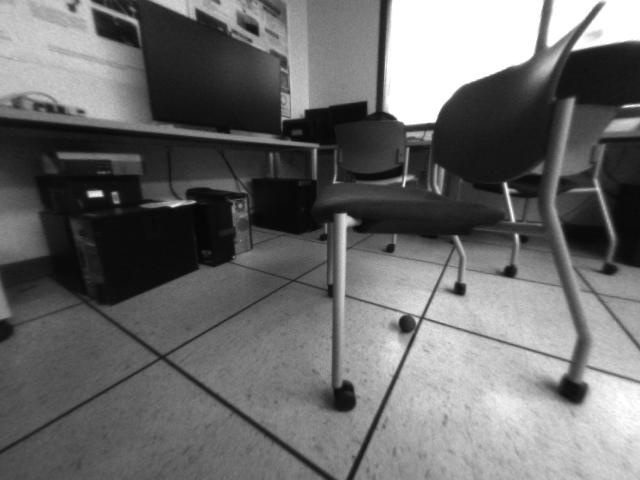dogtoy: (391, 306, 425, 340)
